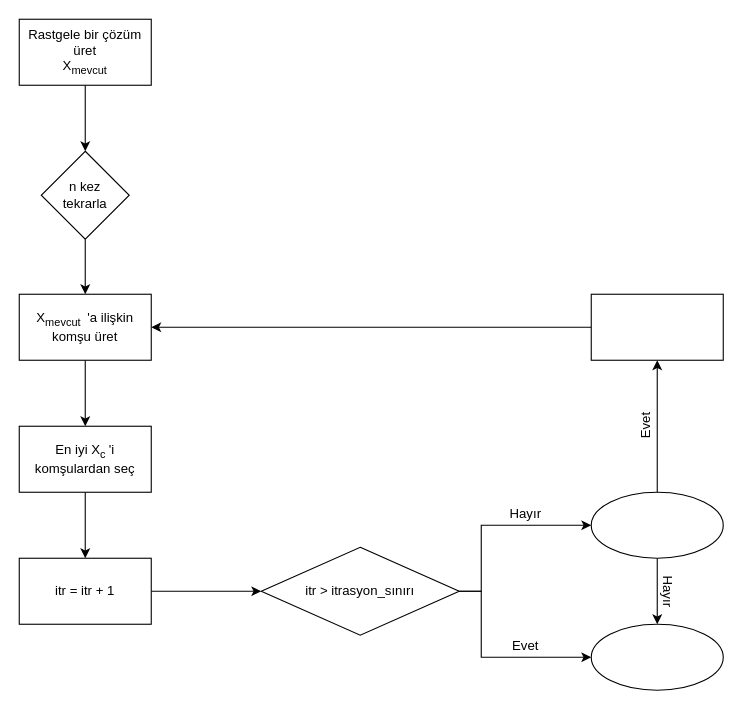
Image size: 743x710. Some labels were removed from this diagram. Each missing label, with the box of its shape:
DUR: (590, 623, 723, 690)
f(X c ) >= f(X mevcut ): (590, 491, 723, 558)
X c = X mevcut: (590, 293, 723, 360)
